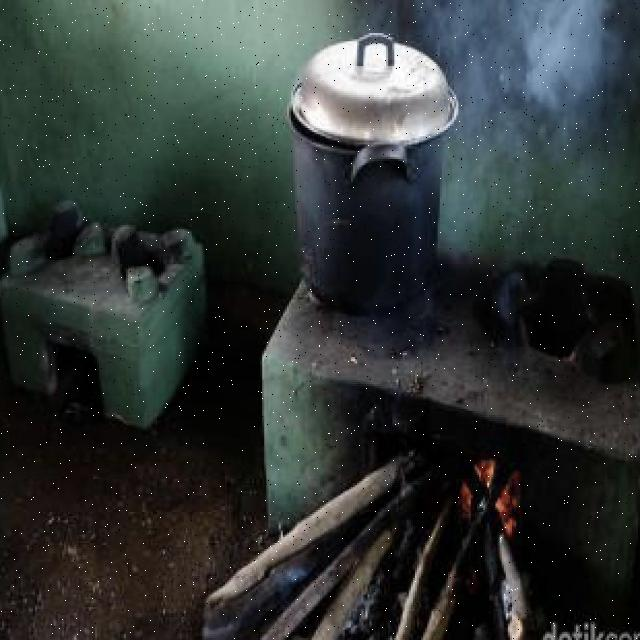fire: (459, 450, 520, 535)
smoke: (417, 0, 638, 250)
